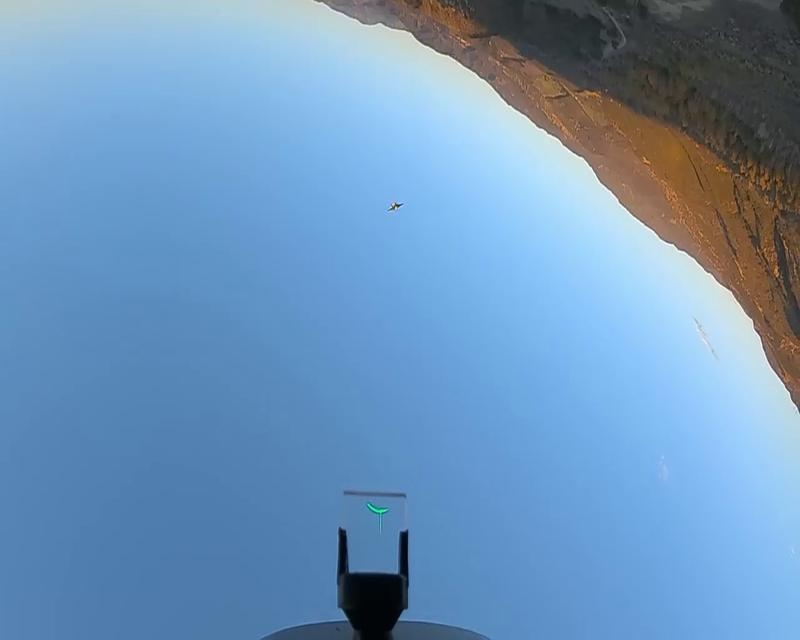UAV: (386, 198, 404, 213)
